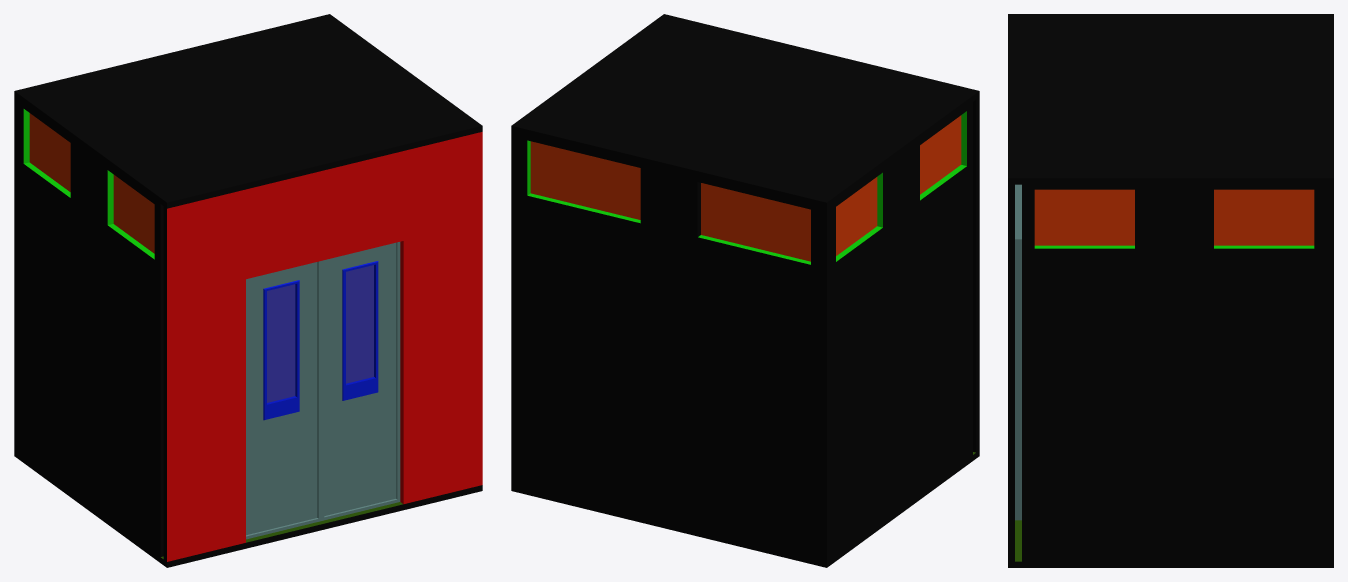
Rendered from elevator.fbx.
3 views of the same model, side by side, from view 1: azimuth 30°, elevation 25°; view 2: azimuth 150°, elevation 25°; view 3: azimuth 270°, elevation 25° (orthographic). The views are drawn at different scales.
Parts seen in each view (by area): view 1: elevator_cabine, door_l, door_r; view 2: elevator_cabine; view 3: elevator_cabine, door_l.
Boxes of the visible parts, <box> form: elevator_cabine: <box>14,14,482,567</box>; door_l: <box>321,242,400,520</box>; door_r: <box>246,261,321,539</box>; elevator_cabine: <box>511,14,979,567</box>; elevator_cabine: <box>1008,14,1333,567</box>; door_l: <box>1015,198,1021,520</box>.
Bounding box in the file's own units: 276 × 305 × 231.
